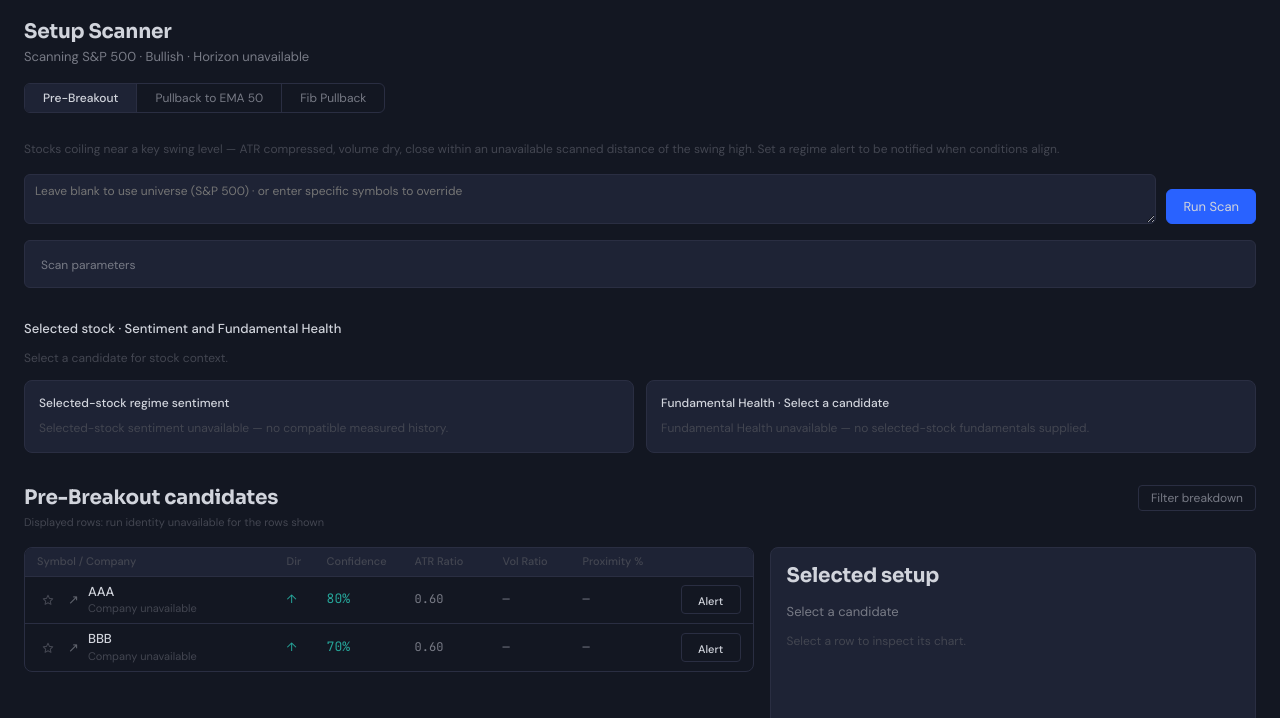
it: Fib Pullback mode has its own candidates heading and breakdown for its own category
This screenshot has width=1280, height=718.
Click the button "Fib Pullback". click: (333, 98)
box: [281,84,384,112]
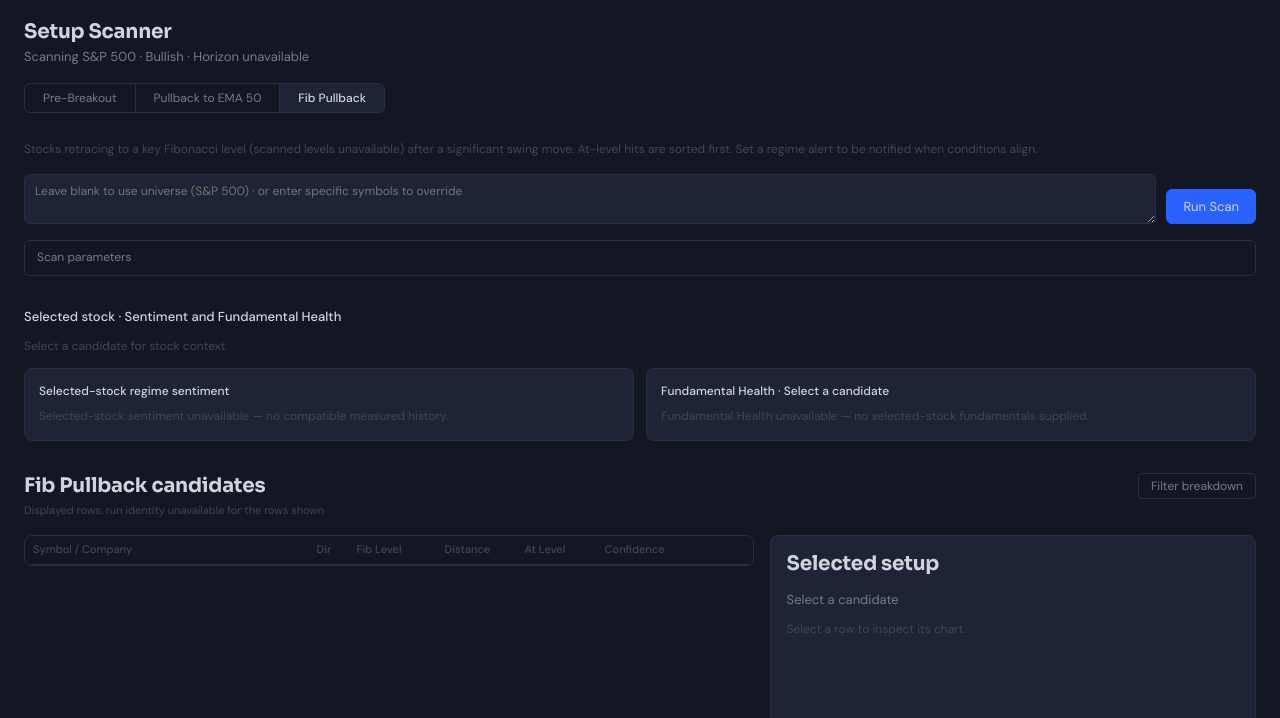
expect the heading "Fib Pullback candidates" is shown: met, box [24,474,266,498]
expect the heading "Pre-Breakout candidates" is gone: met
Click the button "Filter breakdown". click: (1197, 486)
box: [1138,473,1256,499]
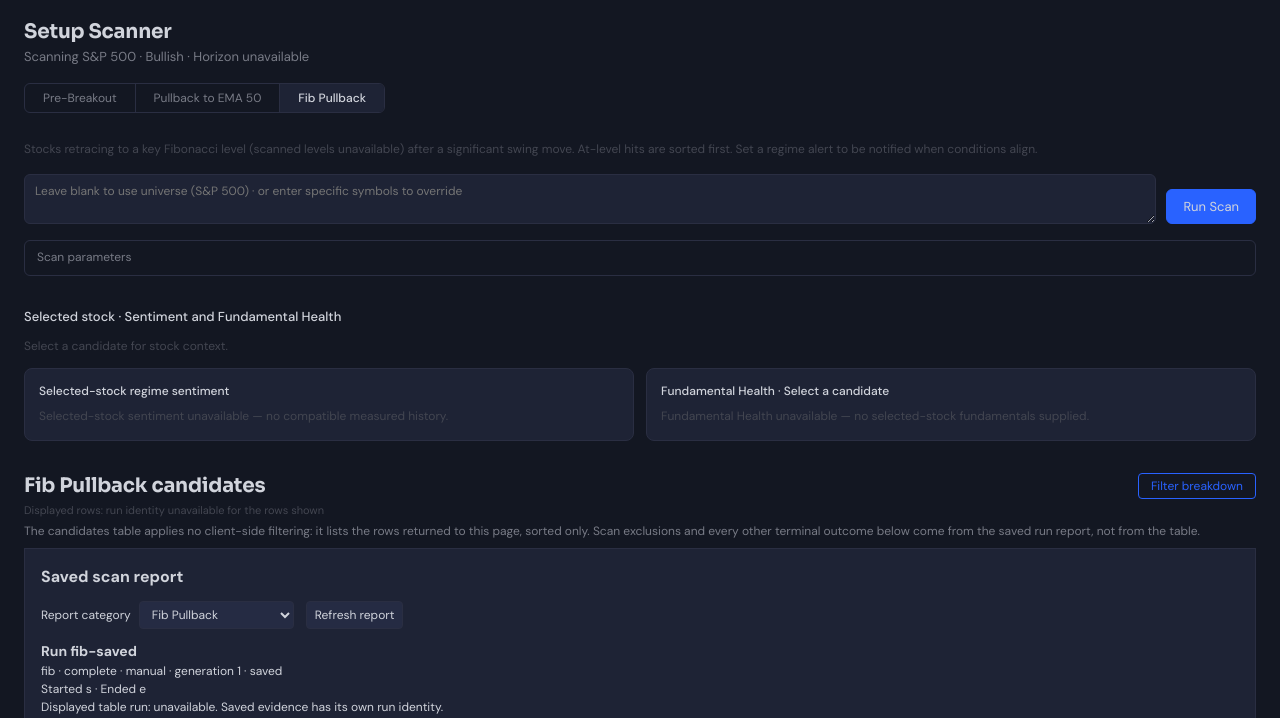
expect the dropdown labelled "Report category" shows "Fib Pullback": met, box [139,601,294,629]
